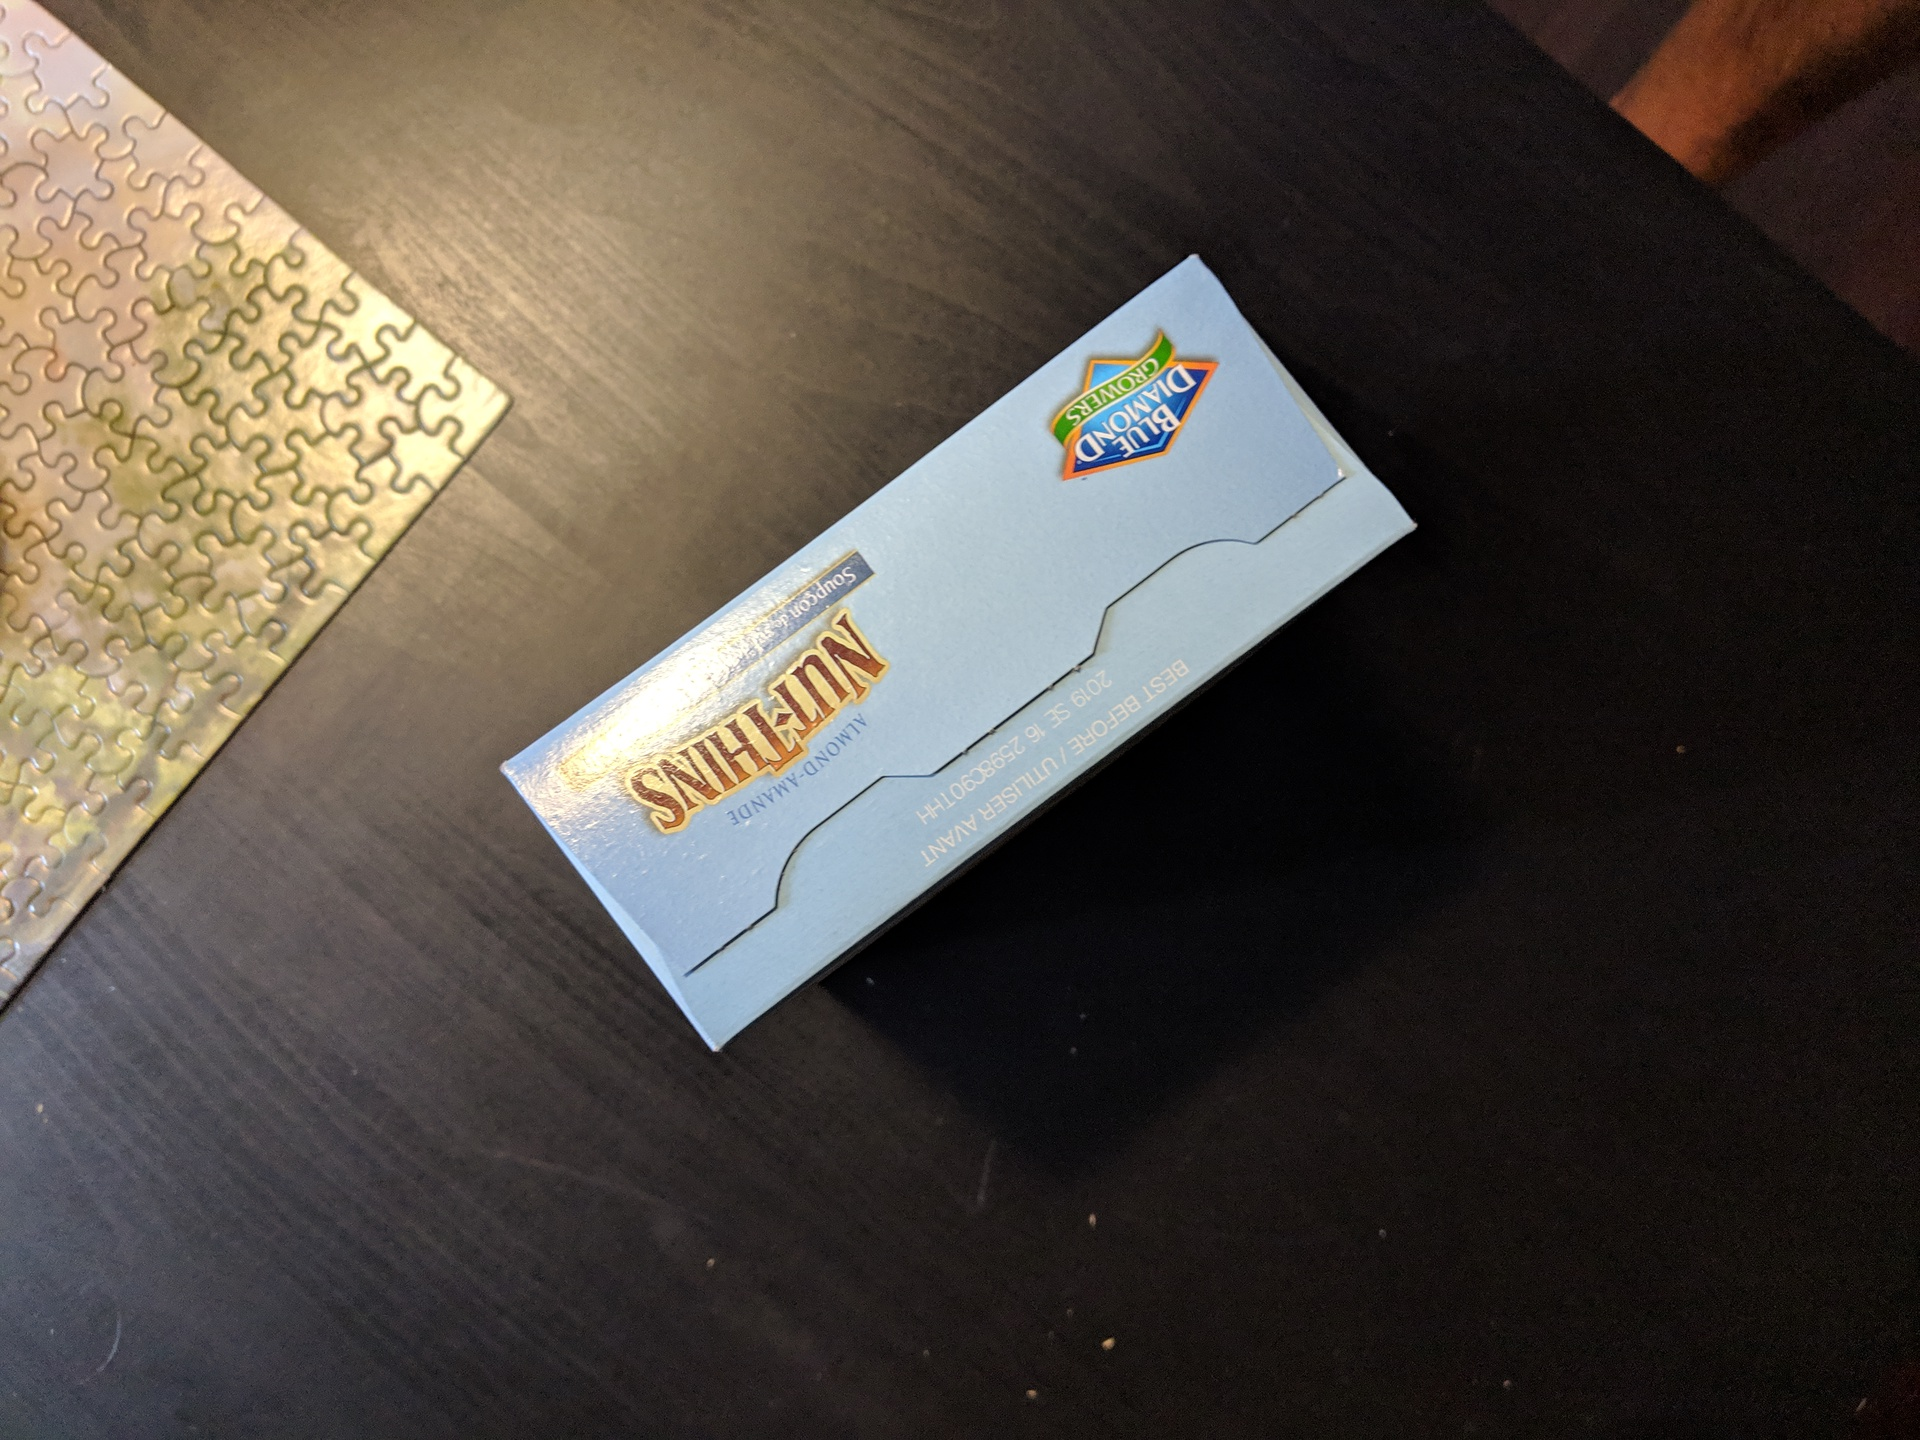blue_diamond_nut_thins_almond_seasalt: (621, 343, 1302, 979)
